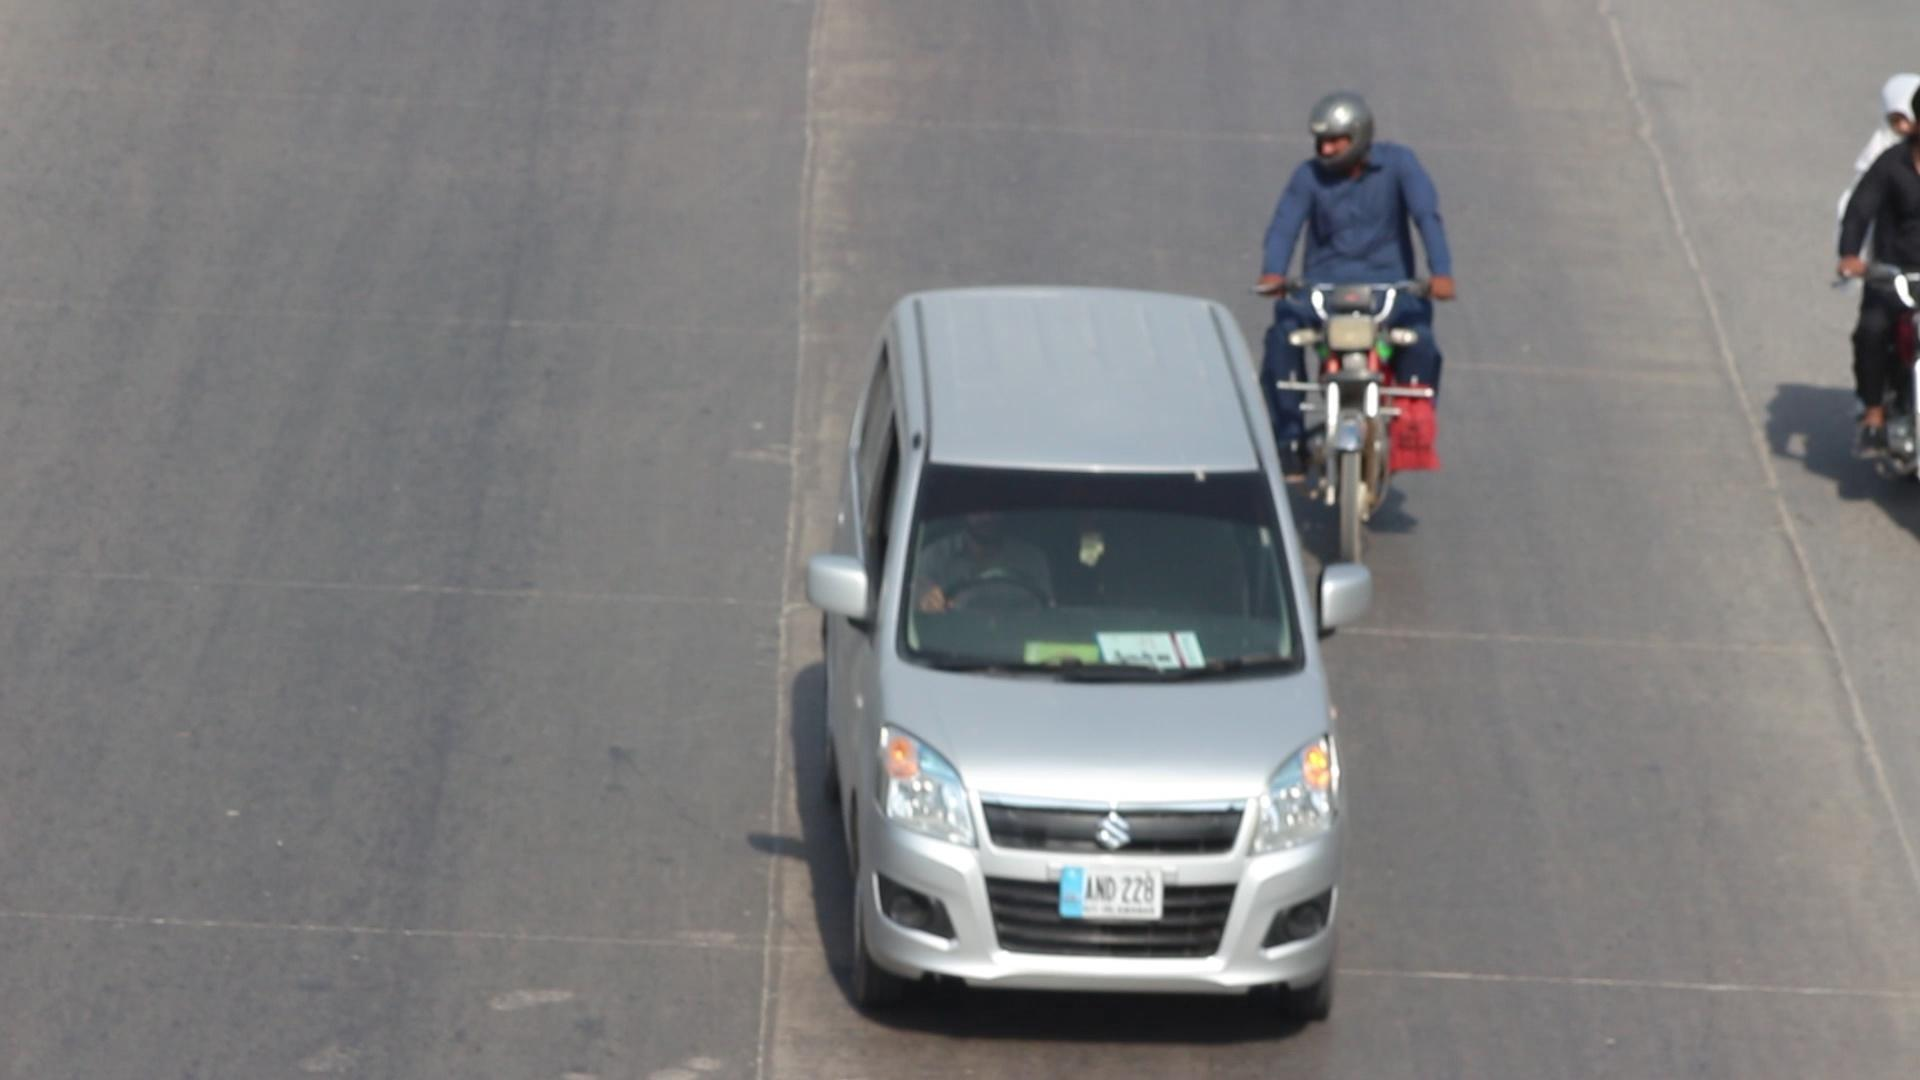windshield: (890, 440, 1327, 690)
